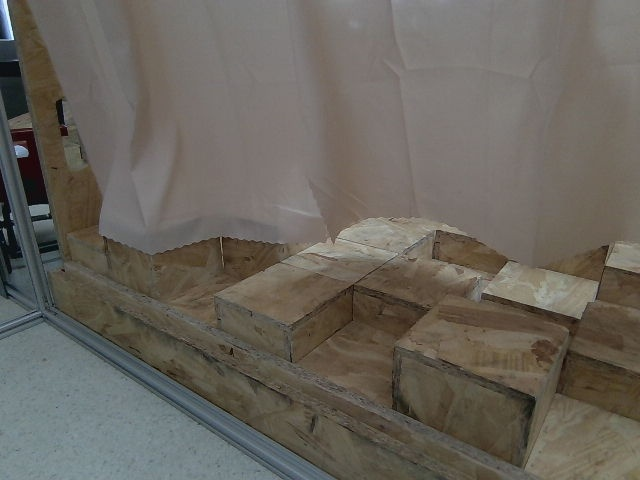curtain: (19, 0, 640, 264)
